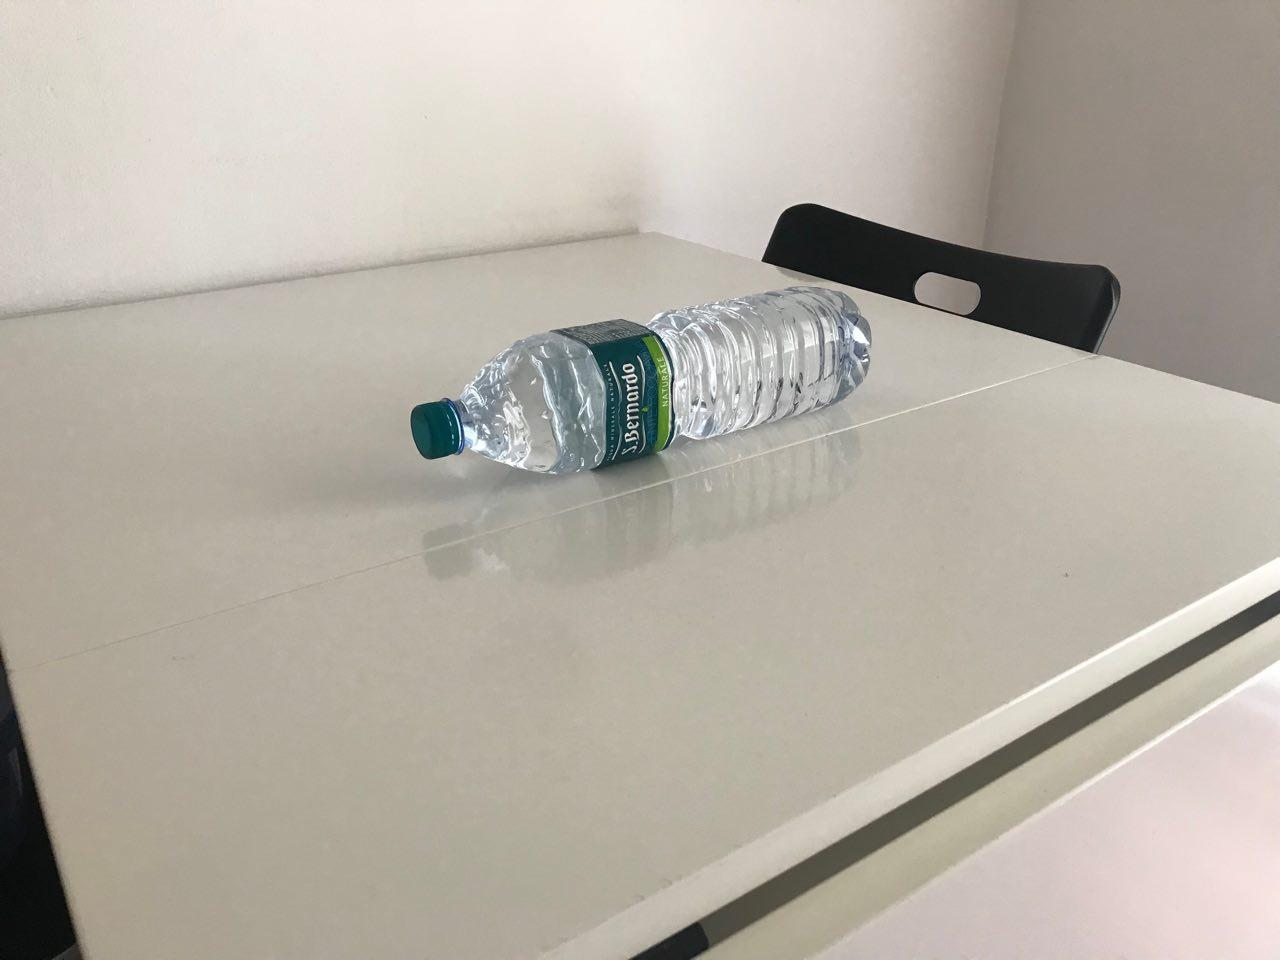san_bernardo: (408, 285, 874, 478)
